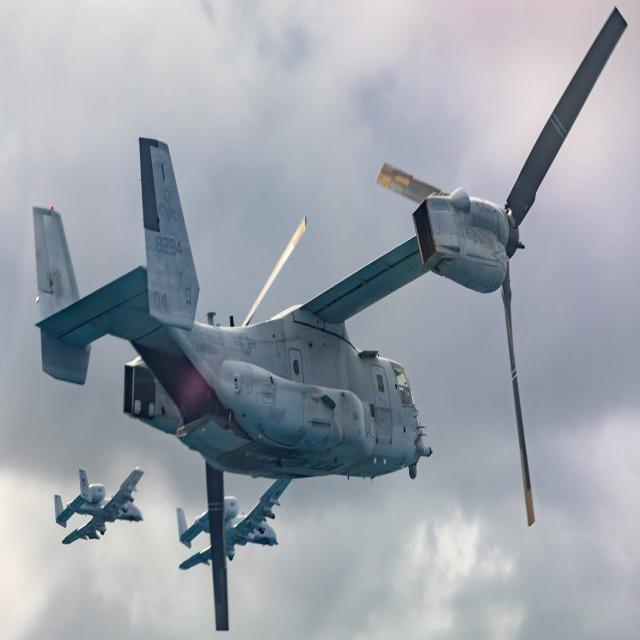MIL_Plane: (32, 6, 628, 632), (176, 478, 293, 571), (54, 466, 145, 545)
